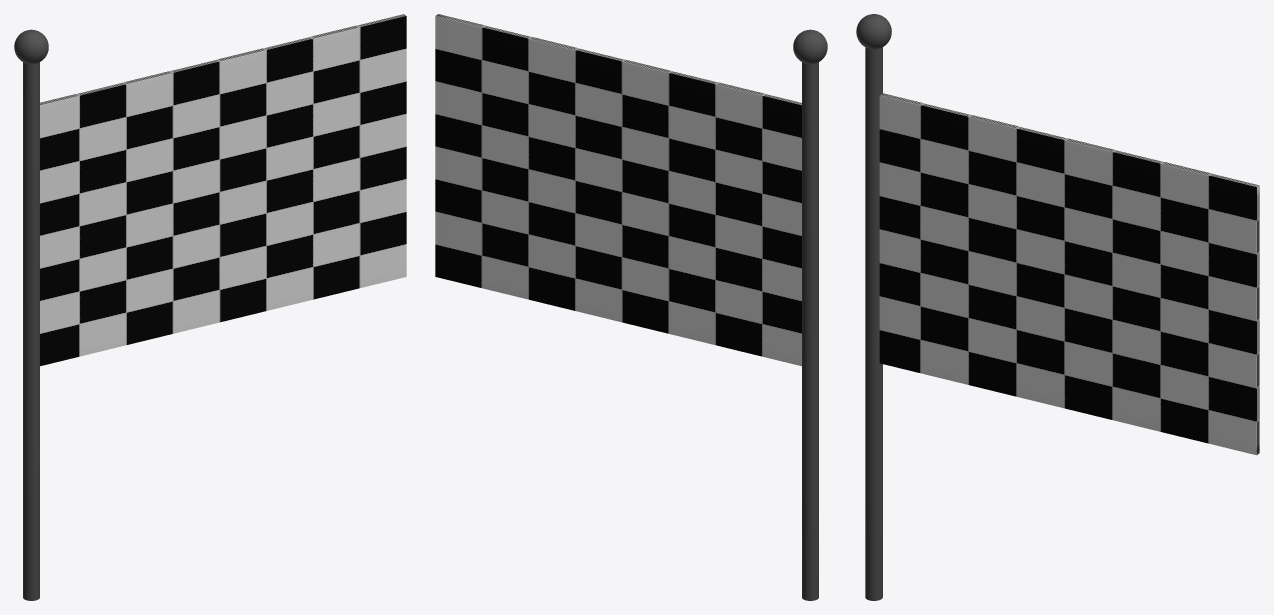
The model's file is Flag test.fbx.
The picture shows the model from 3 angles, left to right: view 1: azimuth 30°, elevation 25°; view 2: azimuth 150°, elevation 25°; view 3: azimuth 330°, elevation 25°; orthographic projection. The views are drawn at different scales.
Visible parts, largest first — view 1: Cube, Cylinder, Sphere; view 2: Cube, Cylinder, Sphere; view 3: Cube, Cylinder, Sphere.
Boxes of the visible parts, <box> form: Cube: <box>40,14,406,366</box>; Cylinder: <box>23,62,39,600</box>; Sphere: <box>14,29,48,64</box>; Cube: <box>435,14,801,366</box>; Cylinder: <box>802,62,818,600</box>; Sphere: <box>793,29,827,64</box>; Cube: <box>879,93,1259,455</box>; Cylinder: <box>865,47,882,600</box>; Sphere: <box>856,14,891,49</box>.
Size of the model in its own units: 312 by 434 by 24.08.
